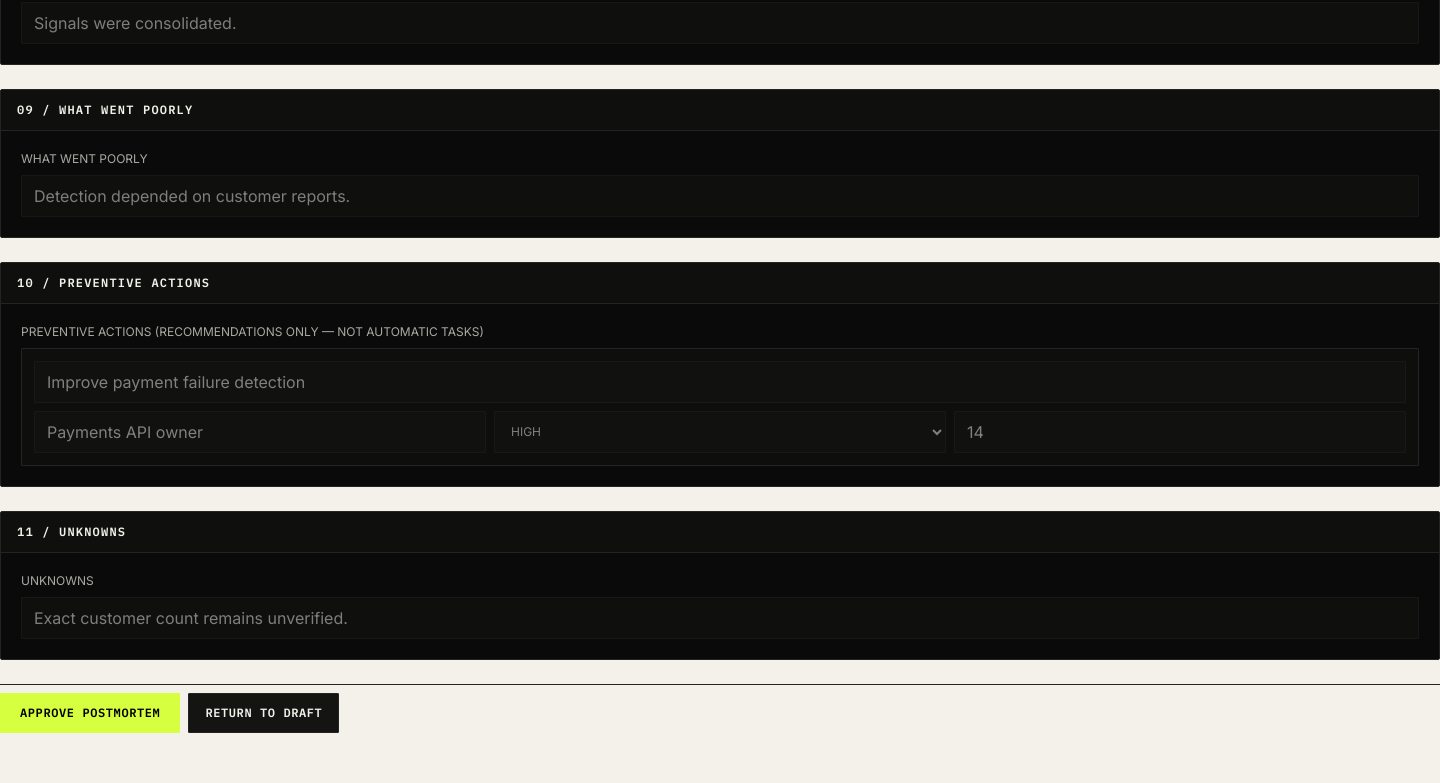
Phase 09 Postmortem editor › approves a postmortem in review
(page scrolled)
Click the button "APPROVE POSTMORTEM": (90, 712) [0,692,180,732]
(page scrolled)
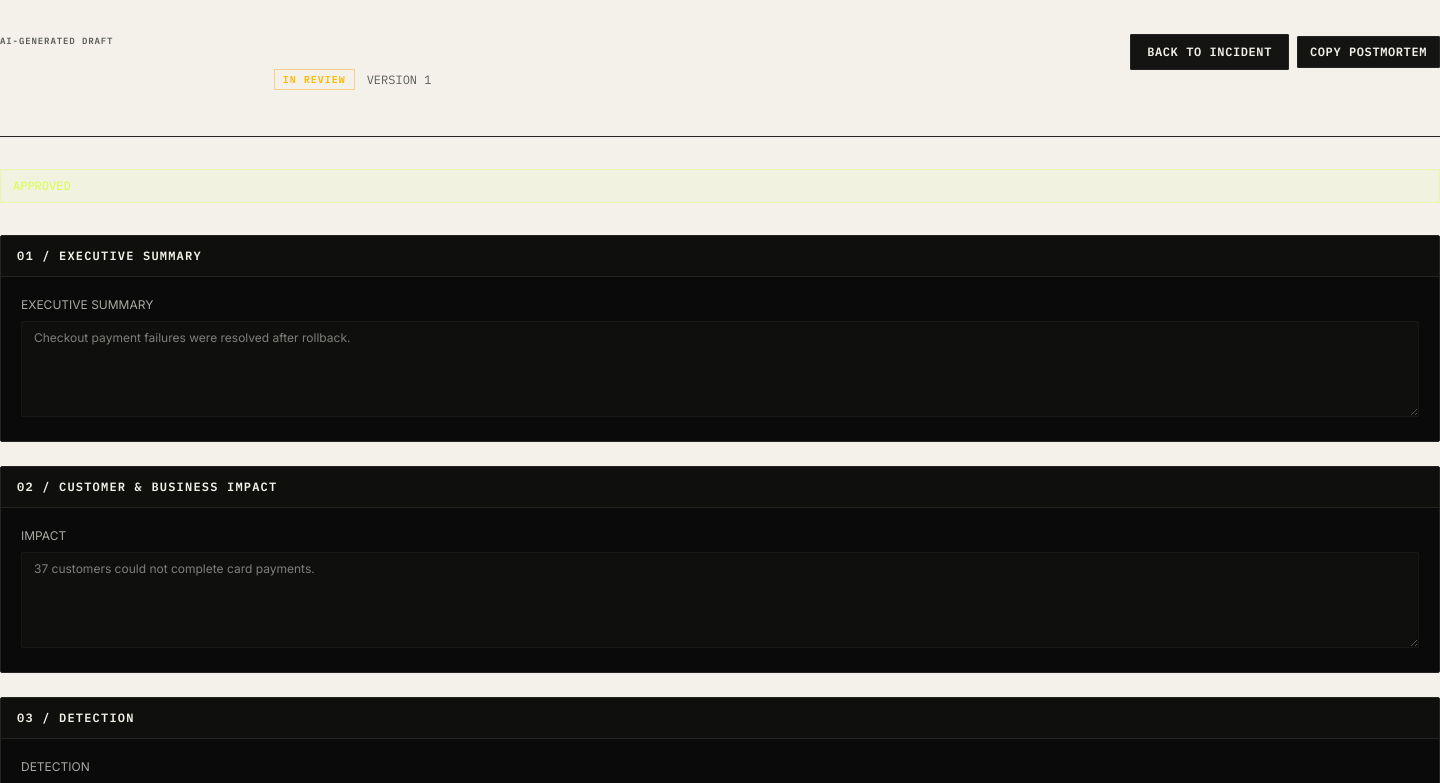
Check: the text "APPROVED" is shown, box [0,168,1439,202]
